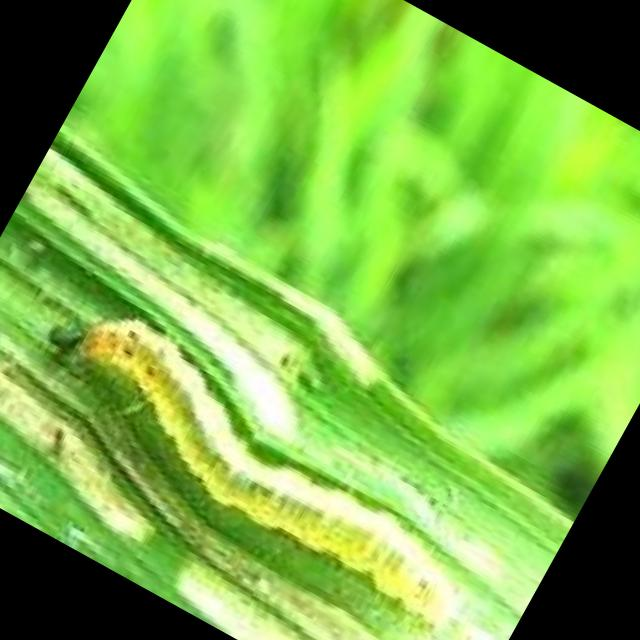leaf-folder: (7, 271, 510, 640)
